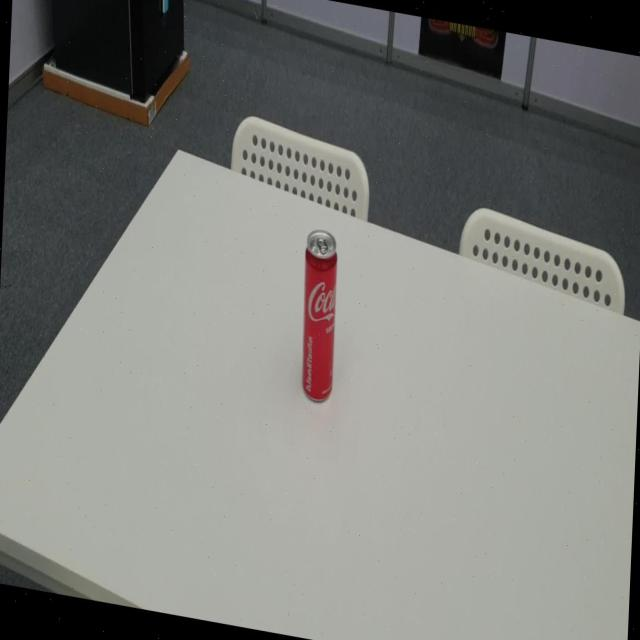coca-cola: (298, 225, 341, 409)
